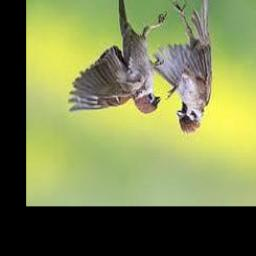Sparrow: (67, 0, 168, 114), (152, 0, 212, 135)
